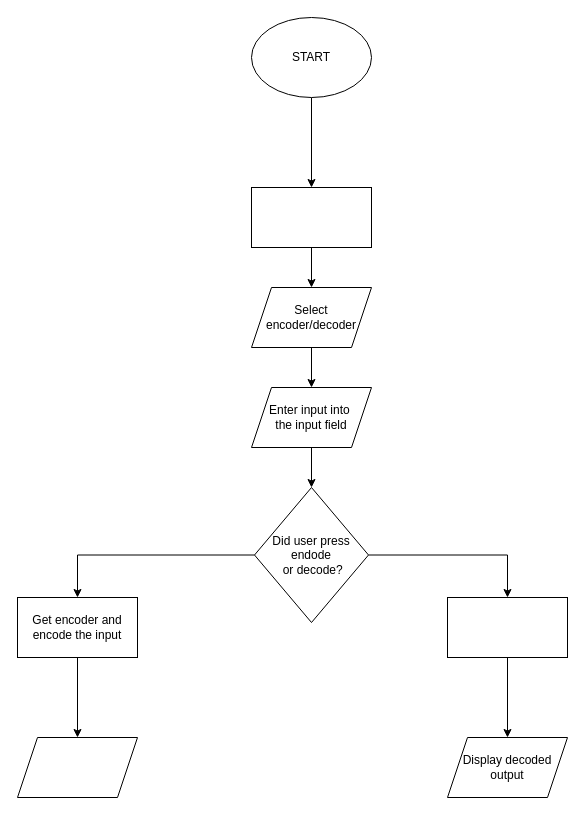
Image size: 585x815. Some labels were removed from this diagram. Each missing label, with the box of its shape:
Display encoded output: (16, 736, 138, 798)
Draw main window with user interface: (250, 186, 372, 248)
Get decoder and decode the input: (446, 596, 568, 658)
